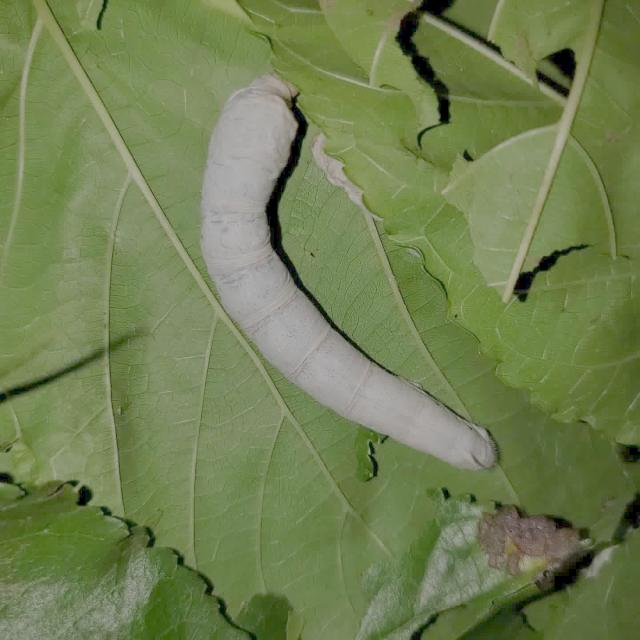Healthy: (173, 64, 518, 478)
